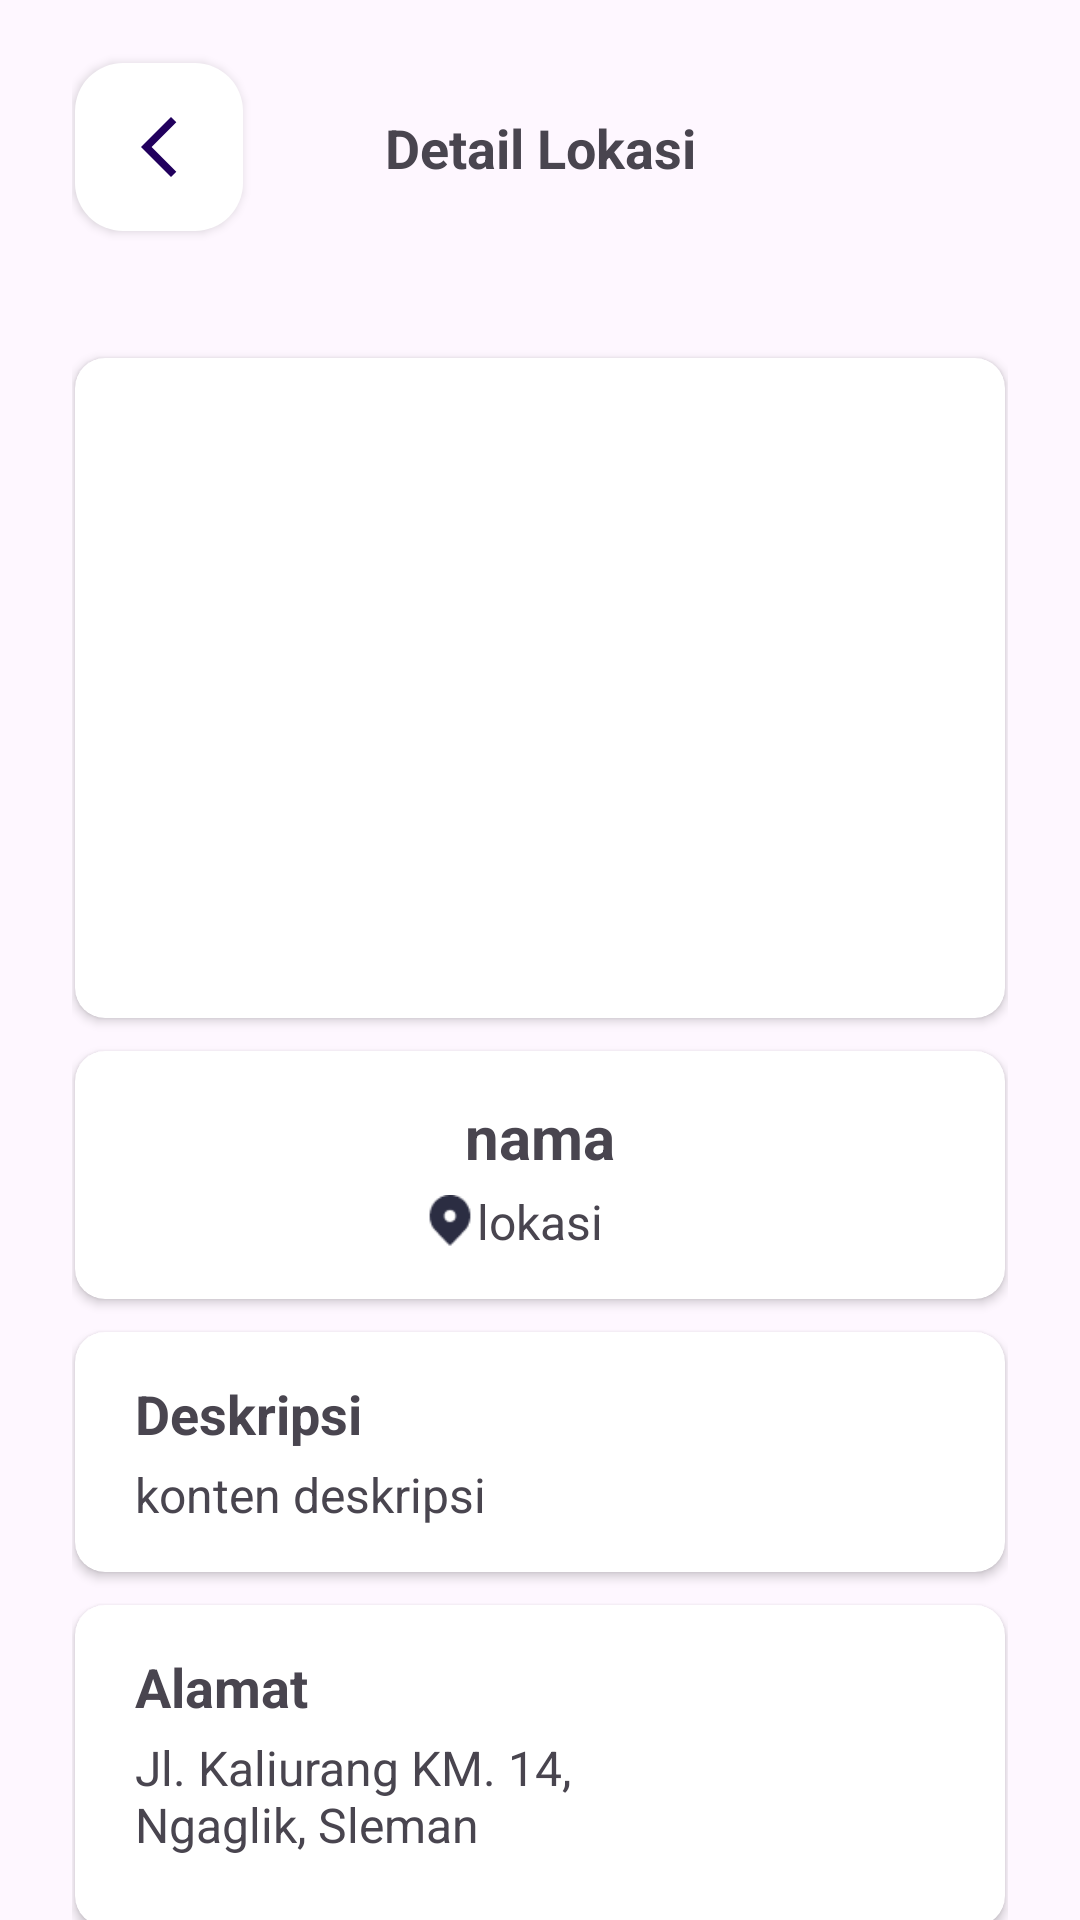

Icons on this 1080px×1920px Android screen, each with its box as (x1, y1, x2, y2):
back: (75, 63, 221, 231)
